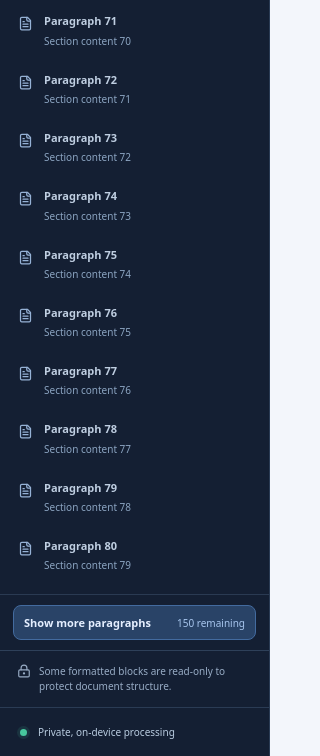
Test: large document navigation › renders only the first page and can reveal additional paragraphs
(page scrolled)
Step 1. Click the button "Show more paragraphs 150 remaining" → (134, 623), box [13,605,256,640]
(page scrolled)
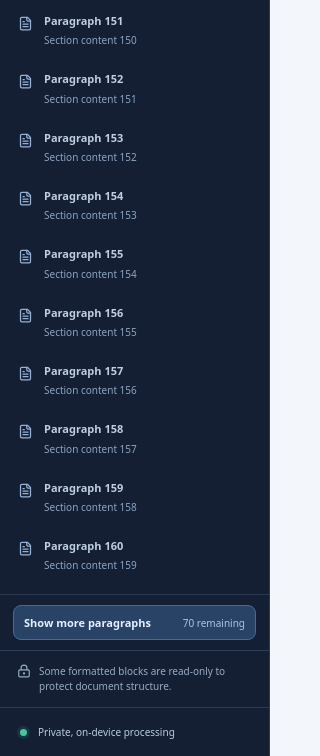
Now the text "Section content 159" is shown, box [44,558,137,572]
